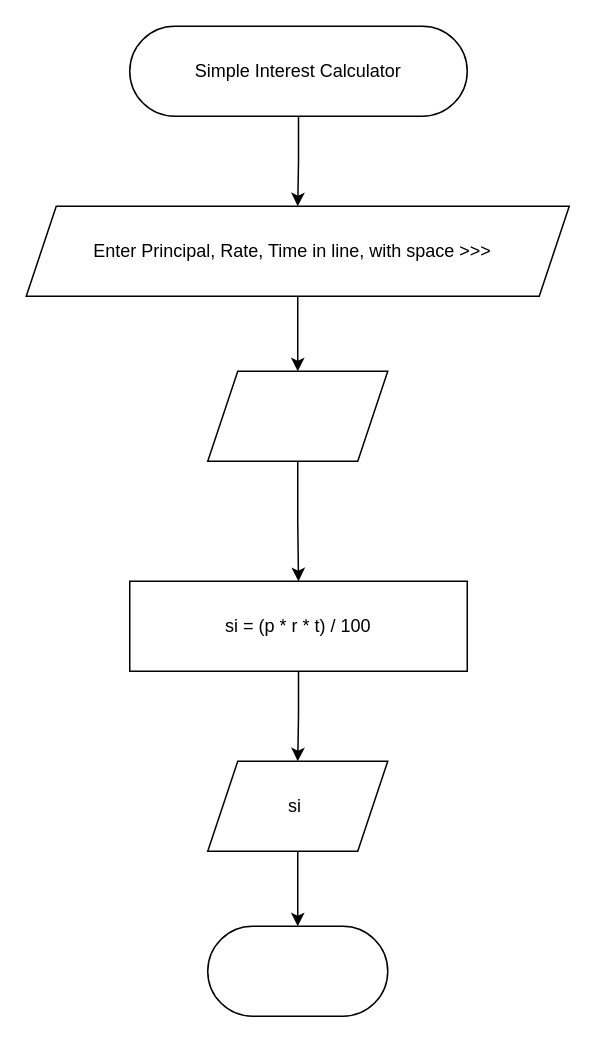
The diagram is 596 pixels wide and 1043 high, and some of its shapes have lost their labels. Here are the shapes that lost their labels. From the top down, the box of each, then its label:
(206, 370, 388, 461): p, r, t
(206, 925, 388, 1016): END
